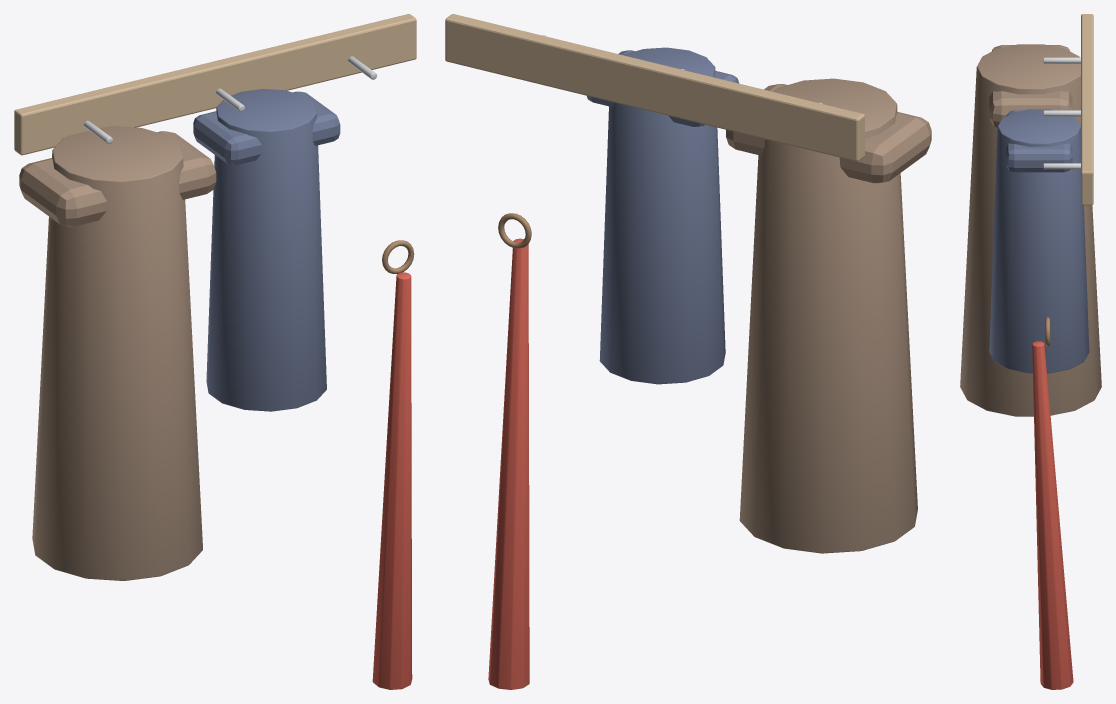
The model's file is v2_hall_coats.fbx.
The picture shows the model from 3 angles, left to right: view 1: azimuth 30°, elevation 25°; view 2: azimuth 150°, elevation 25°; view 3: azimuth 270°, elevation 25°; orthographic projection. The views are drawn at different scales.
Parts seen in each view (by area): view 1: CoatA, CoatB, Rail.001, Umbrella, CoatAShoulder, CoatBShoulder; view 2: CoatA, CoatB, Rail.001, Umbrella, CoatAShoulder; view 3: CoatB, CoatA, Umbrella, Rail.001, CoatAShoulder, CoatBShoulder, Hook.002, Hook, Hook.001.
Boxes of the visible parts, x1,y1,x2,y2 form: CoatA: (32,126,202,580); CoatB: (206,89,326,411); Rail.001: (14,14,416,155); Umbrella: (372,272,412,689); CoatAShoulder: (19,131,216,226); CoatBShoulder: (193,91,340,164); CoatA: (739,78,917,553); CoatB: (599,47,725,384); Rail.001: (445,14,864,161); Umbrella: (488,238,529,689); CoatAShoulder: (726,84,931,183); CoatB: (989,109,1089,373); CoatA: (960,44,1101,416); Umbrella: (1032,341,1073,689); Rail.001: (1081,14,1093,205); CoatAShoulder: (989,45,1072,127); CoatBShoulder: (1006,110,1072,172); Hook.002: (1043,163,1080,169); Hook: (1043,57,1080,63); Hook.001: (1043,110,1080,116).
Size of the model in its own units: 0.93 by 1.4 by 0.3398.
